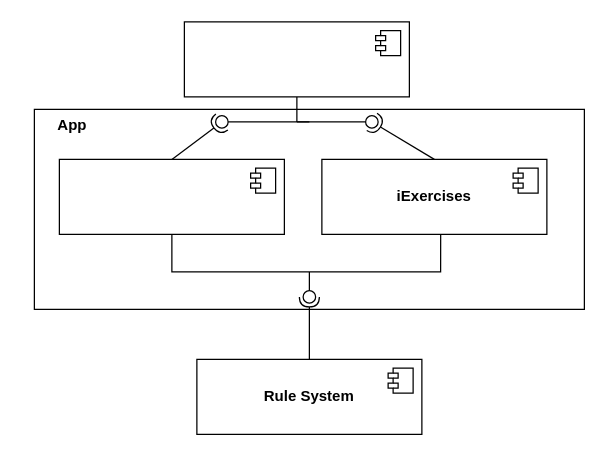
Some shapes in this 606 by 456 pixel diagram are drawn without their labels. Each missing label, with the box of its shape:
iMetrics: (58, 158, 284, 234)
Sensors: (183, 21, 409, 97)
